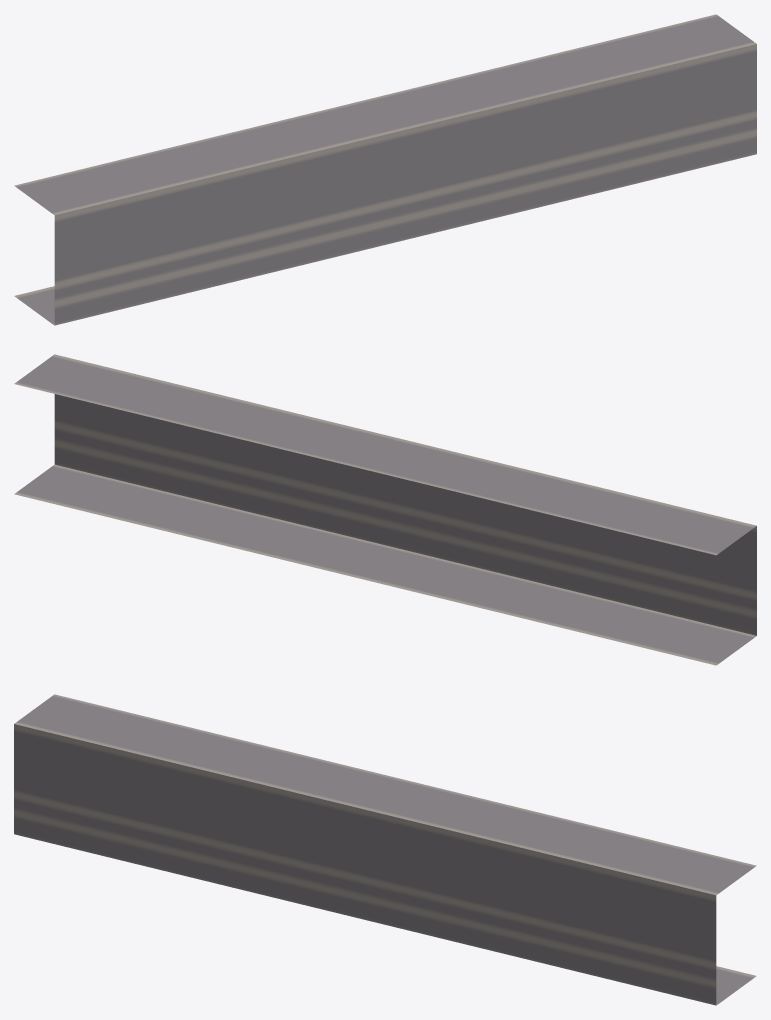
Rendered from SM_ENV_K2_SLAB_STRAIGHT_2X0_3_01.fbx.
3 renders of one model, top to bottom at view 1: azimuth 30°, elevation 25°; view 2: azimuth 150°, elevation 25°; view 3: azimuth 330°, elevation 25°, orthographic.
Parts seen in each view (by area): view 1: SM_ENV_K2_SLAB_STRAIGHT_2X0.3_01; view 2: SM_ENV_K2_SLAB_STRAIGHT_2X0.3_01; view 3: SM_ENV_K2_SLAB_STRAIGHT_2X0.3_01.
Boxes of the visible parts, x1,y1,x2,y2 form: SM_ENV_K2_SLAB_STRAIGHT_2X0.3_01: (14, 14, 756, 325); SM_ENV_K2_SLAB_STRAIGHT_2X0.3_01: (14, 354, 756, 665); SM_ENV_K2_SLAB_STRAIGHT_2X0.3_01: (14, 694, 756, 1005).
Bounding box in the file's own units: 2 × 0.3 × 0.2.
